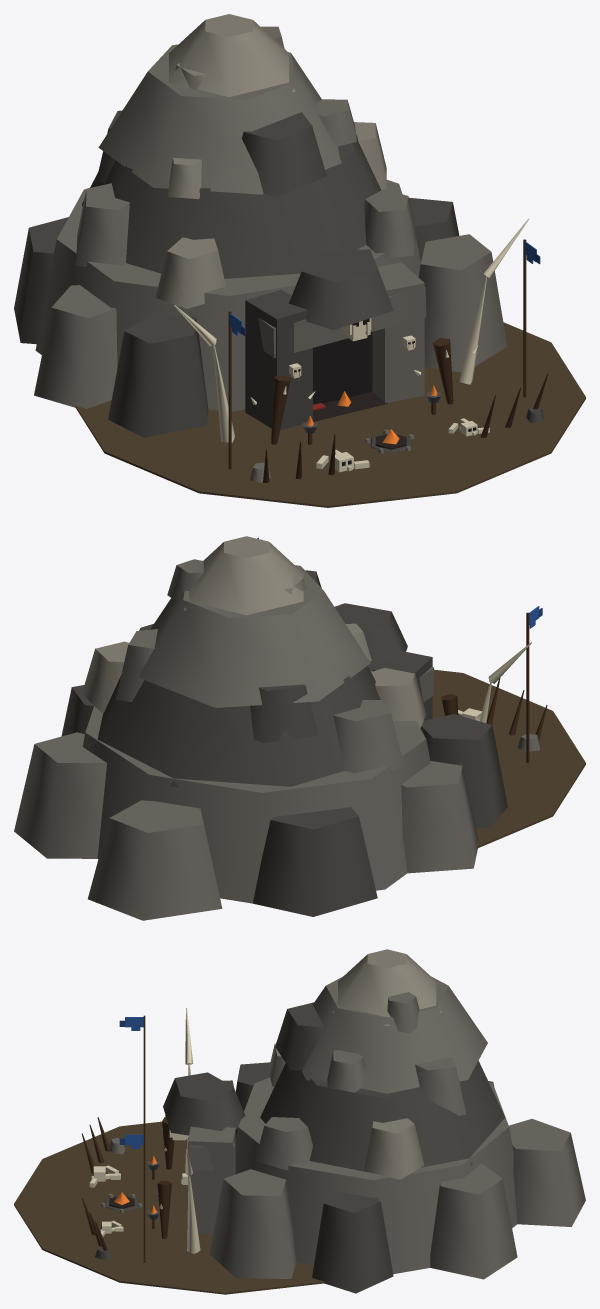
Rendered from orc-troll-lair.glb.
3 renders of one model, top to bottom at view 1: azimuth 30°, elevation 25°; view 2: azimuth 150°, elevation 25°; view 3: azimuth 270°, elevation 25°, orthographic. The views are drawn at different scales.
Visible parts, largest first — view 1: orc-troll-lair; view 2: orc-troll-lair; view 3: orc-troll-lair.
Part boxes in pixels (<box>): orc-troll-lair: <box>14,14,585,507</box>; orc-troll-lair: <box>14,536,585,920</box>; orc-troll-lair: <box>14,949,585,1294</box>.
Bounding box in the file's own units: 18.8 × 12.1 × 25.44.
1 material, 1 textured.
